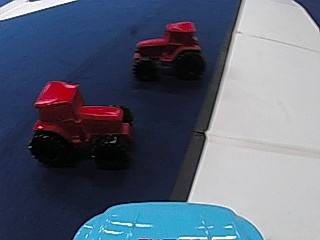tractor: (27, 75, 128, 168), (130, 18, 207, 84)
